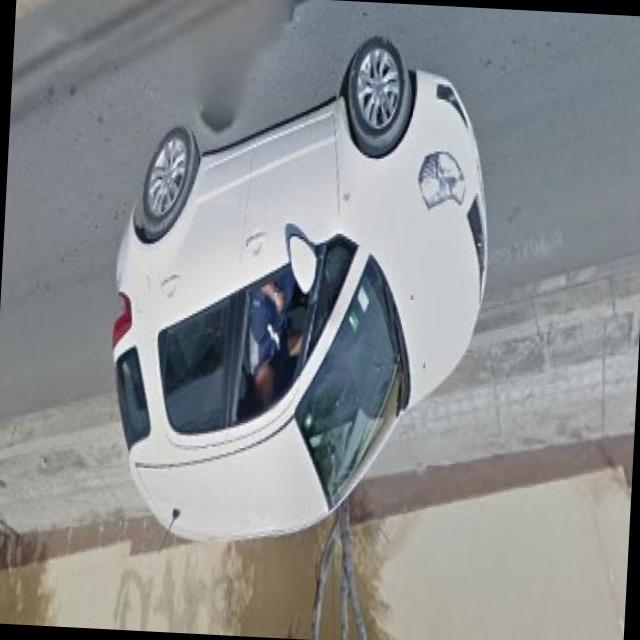car: (97, 16, 502, 550)
